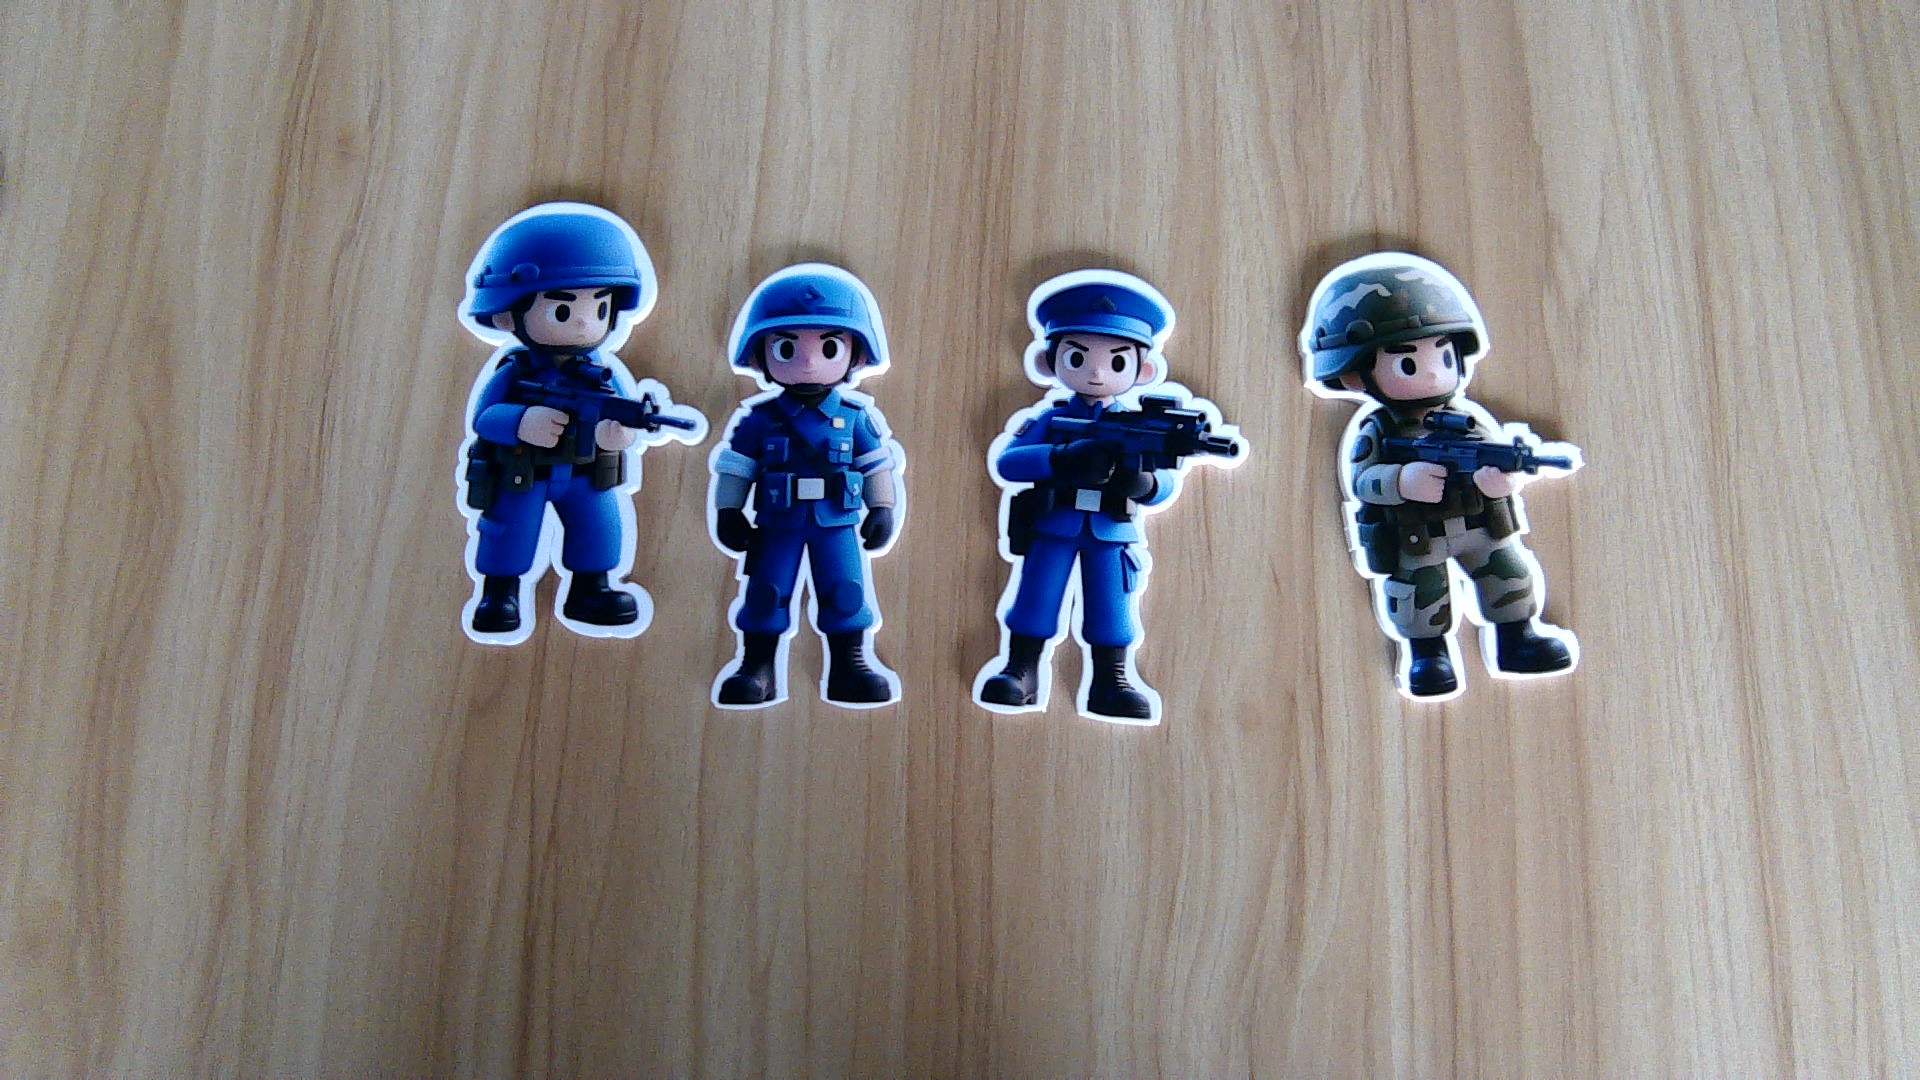友军: (1331, 405, 1598, 696)
敌人2: (975, 396, 1247, 720), (448, 351, 695, 642), (702, 396, 920, 711)
